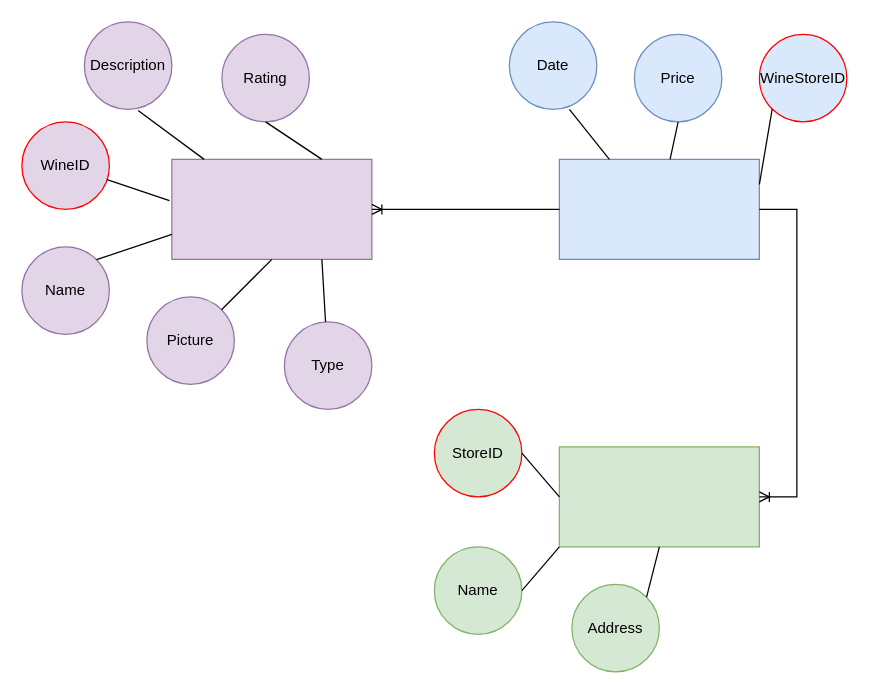
Some shapes in this 869 by 694 pixel diagram are drawn without their labels. The box of each missing label's shape, as (x1, y1, x2, y2) in pixels:
Store: (558, 446, 759, 547)
Wine: (171, 158, 372, 259)
WineStore: (558, 158, 759, 259)
